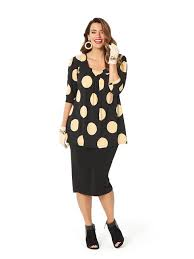F_tailored skirt: (65, 120, 126, 200)
